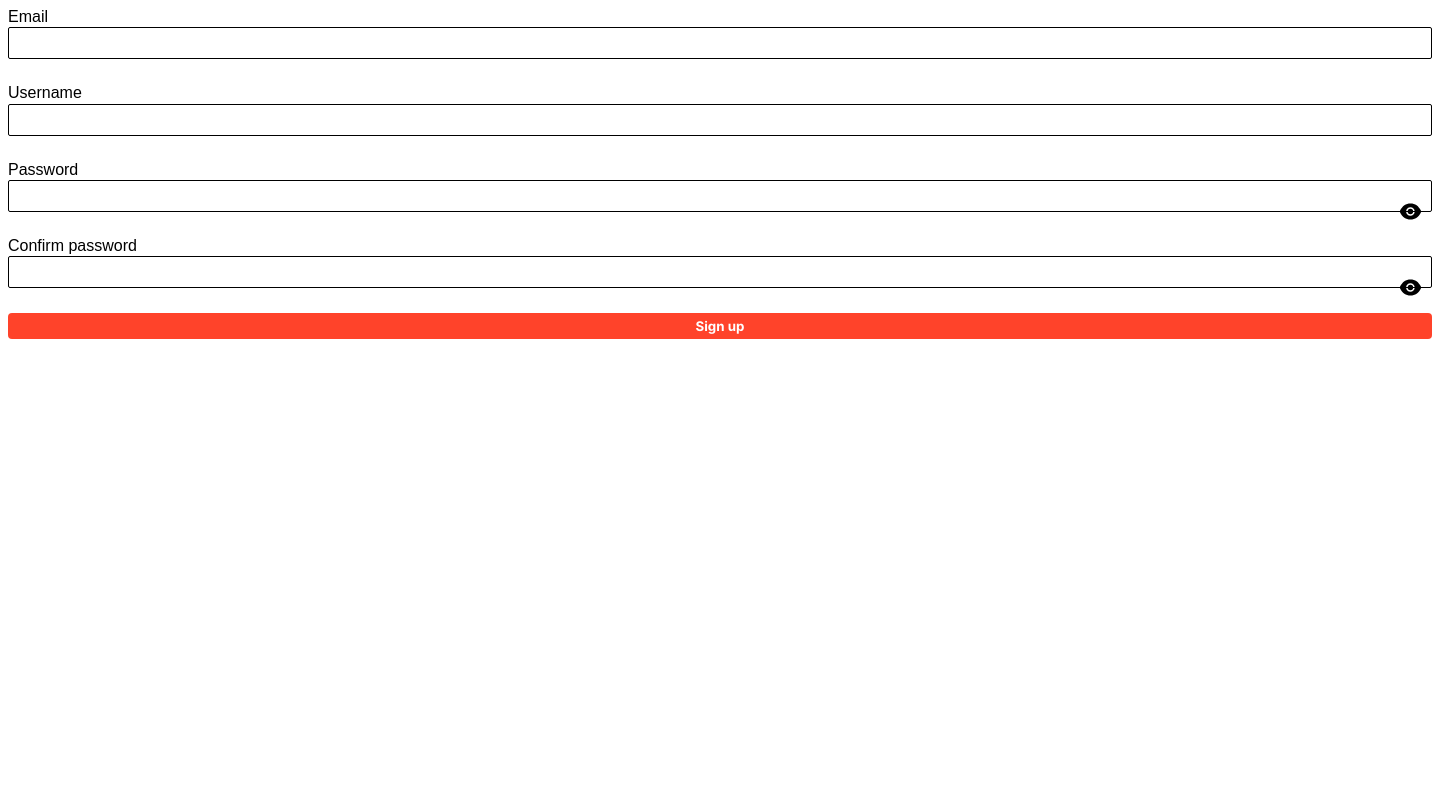
Test case: SingupForm › Should show success banner after submitting
Type "test@example.com" into the field labelled "Email".
click(720, 43); type("test@example.com")  # box left=8, top=27, right=1432, bottom=59
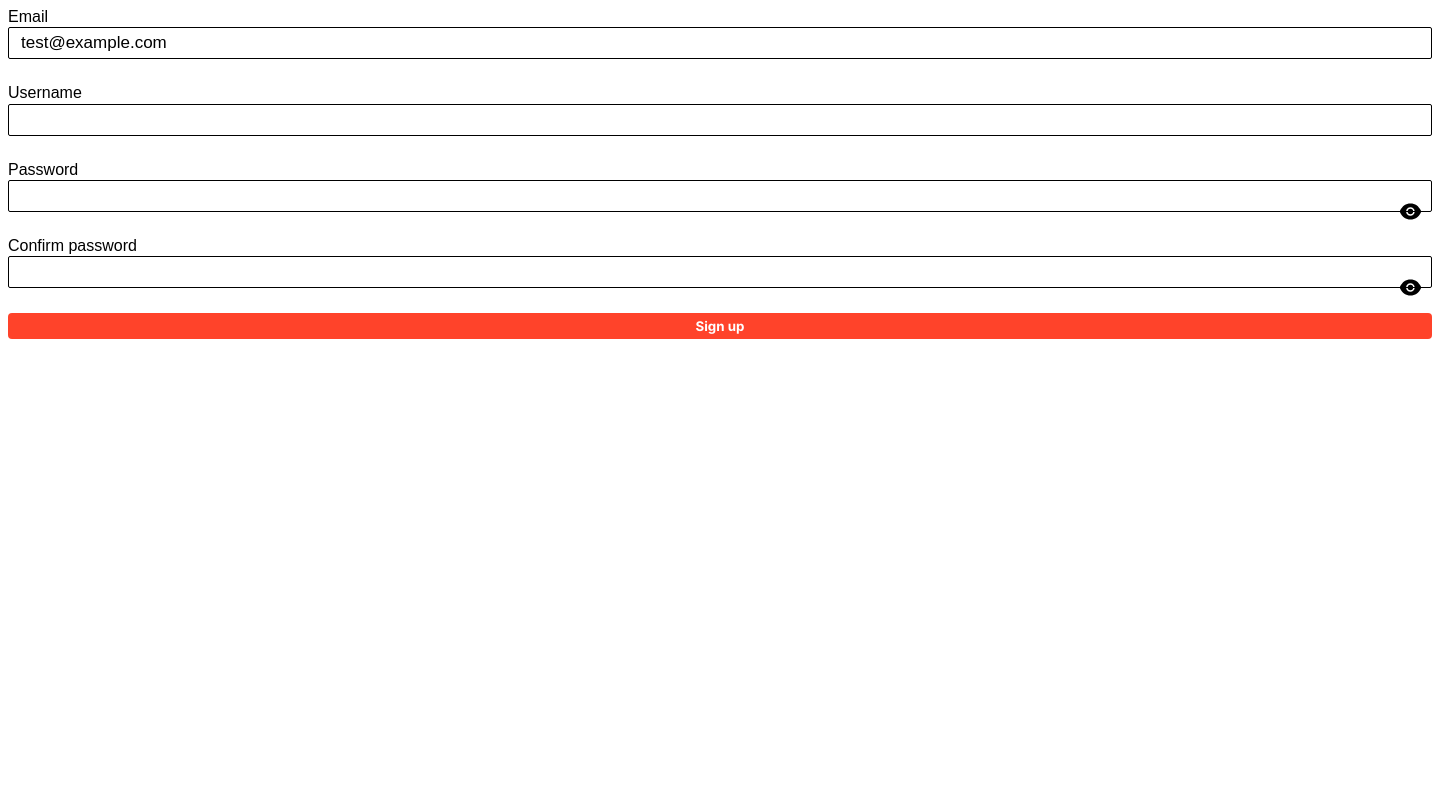
Type "testuser" into the field labelled "Username".
click(720, 120); type("testuser")  # box left=8, top=104, right=1432, bottom=136
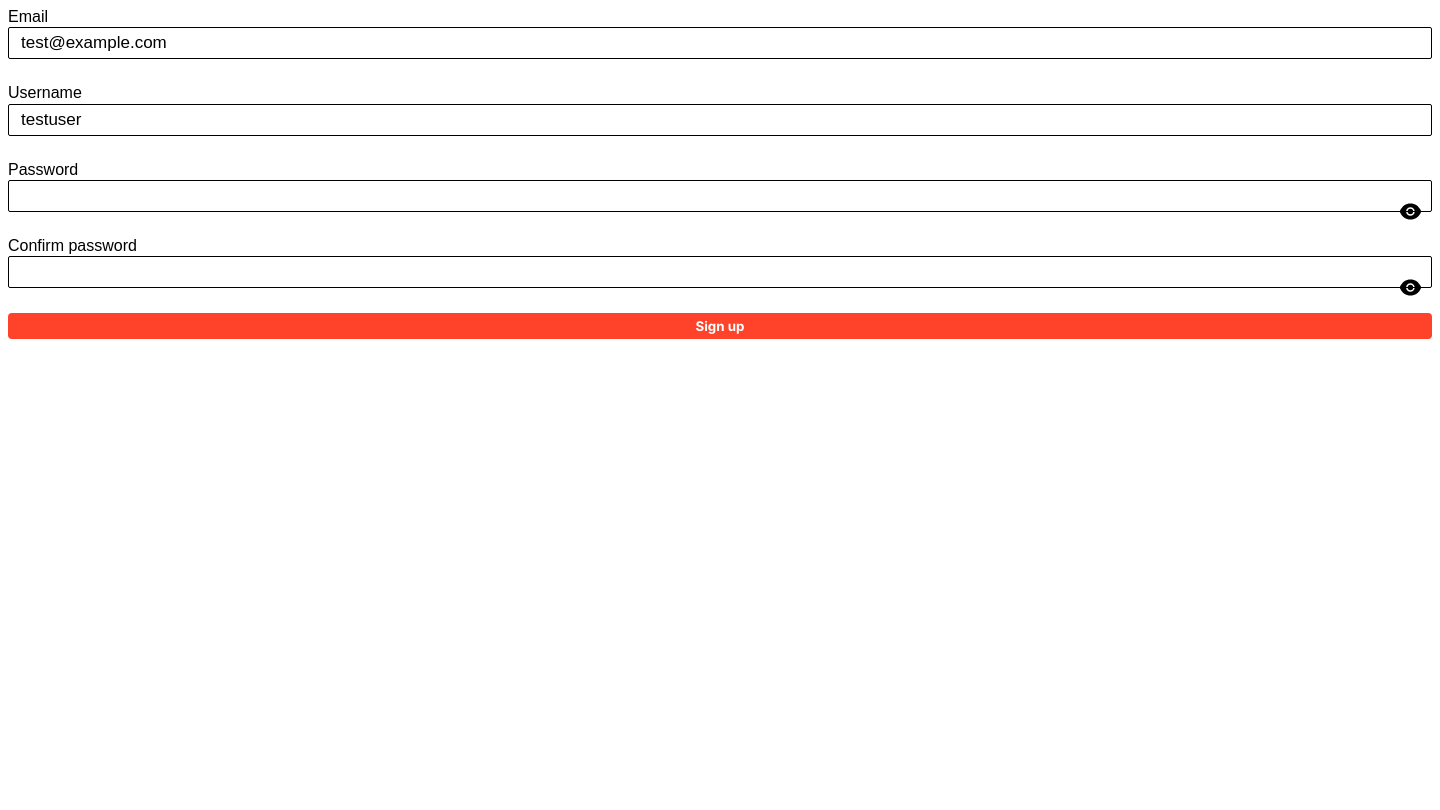
Type "Password_123" into the password field labelled "Password".
click(720, 196); type("Password_123")  # box left=8, top=180, right=1432, bottom=212
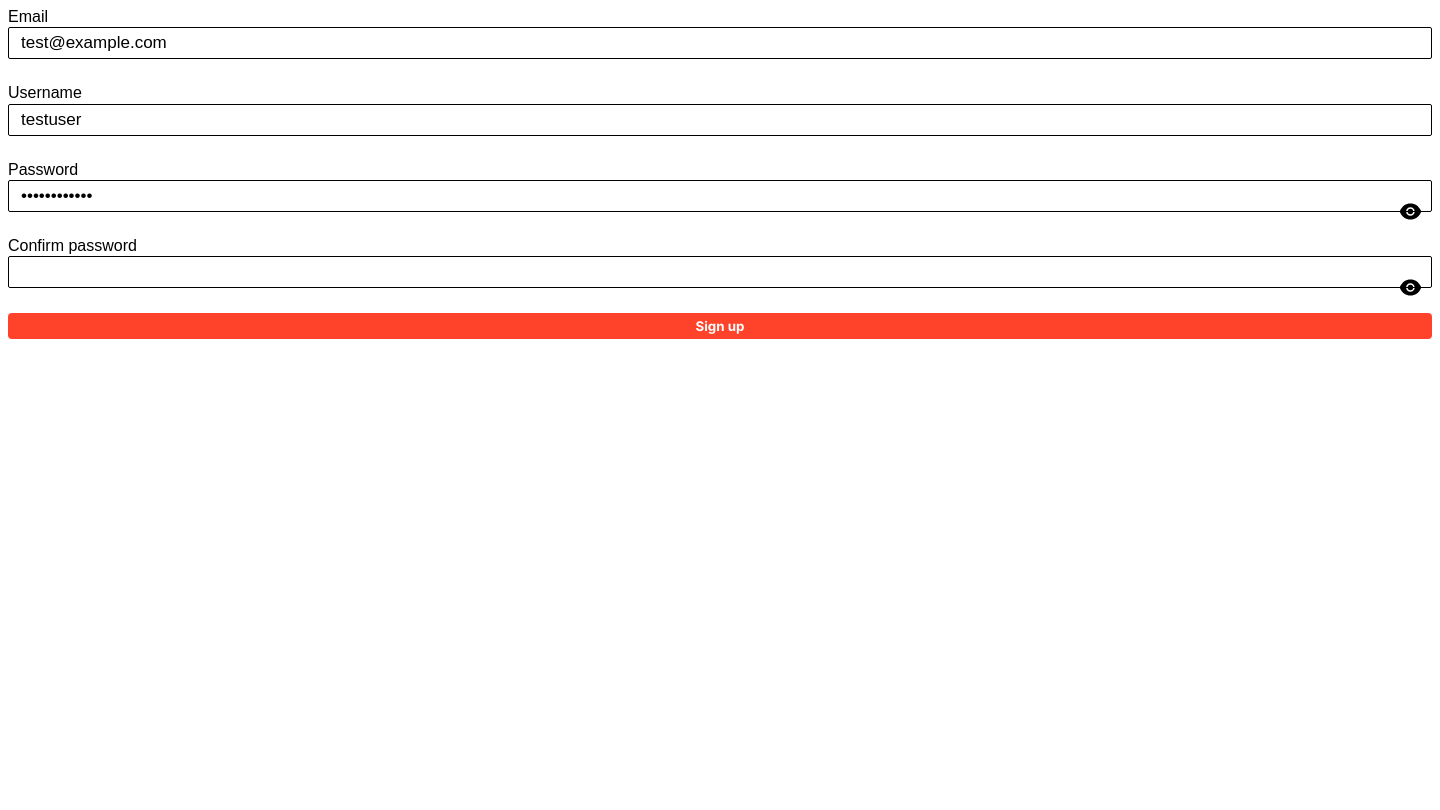
Type "Password_123" into the password field labelled "Confirm password".
click(720, 272); type("Password_123")  # box left=8, top=256, right=1432, bottom=288
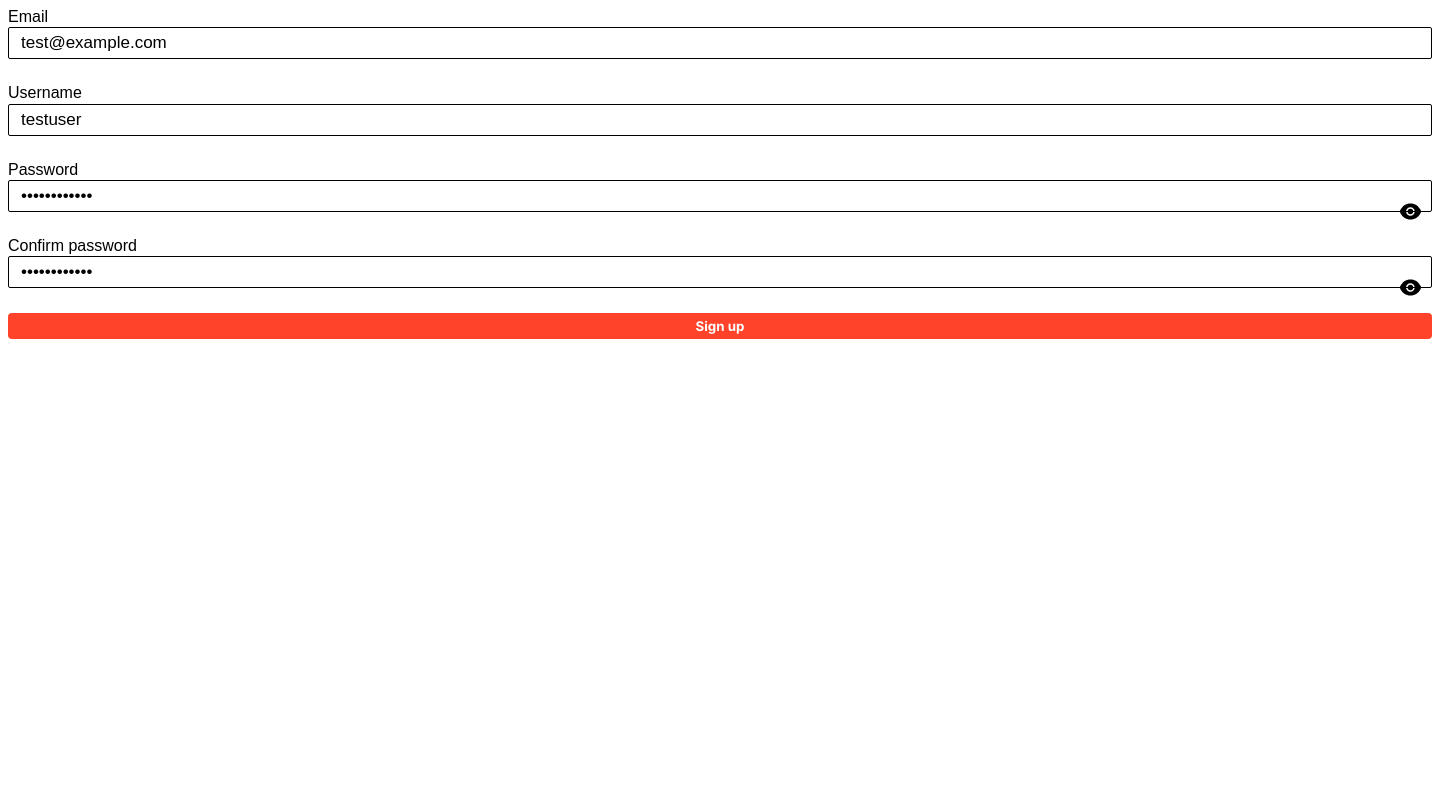
Click the button "Sign up".
click(720, 326)  # box left=8, top=313, right=1432, bottom=339
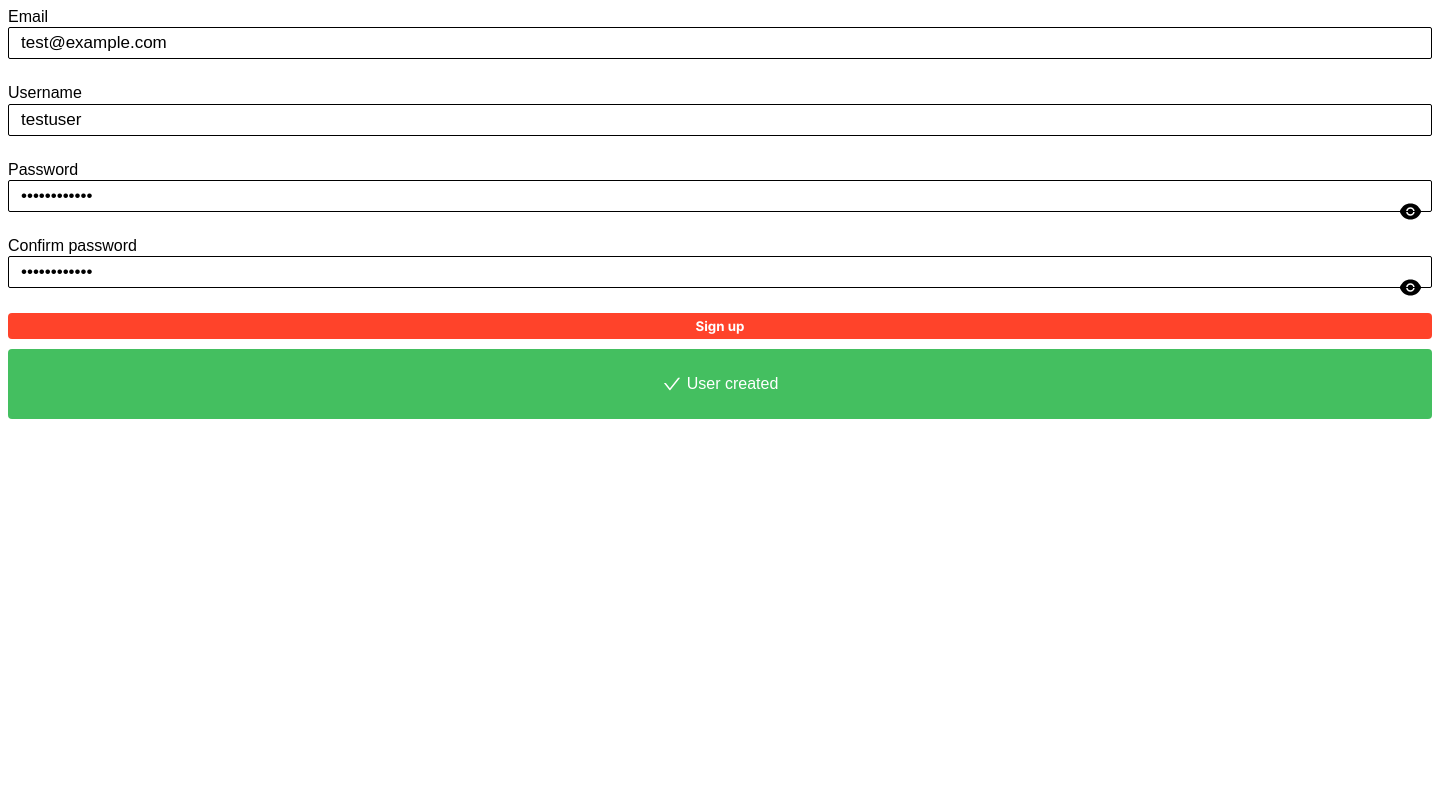
Expected: the dialog reads "User created", left=687, top=375, right=778, bottom=392
